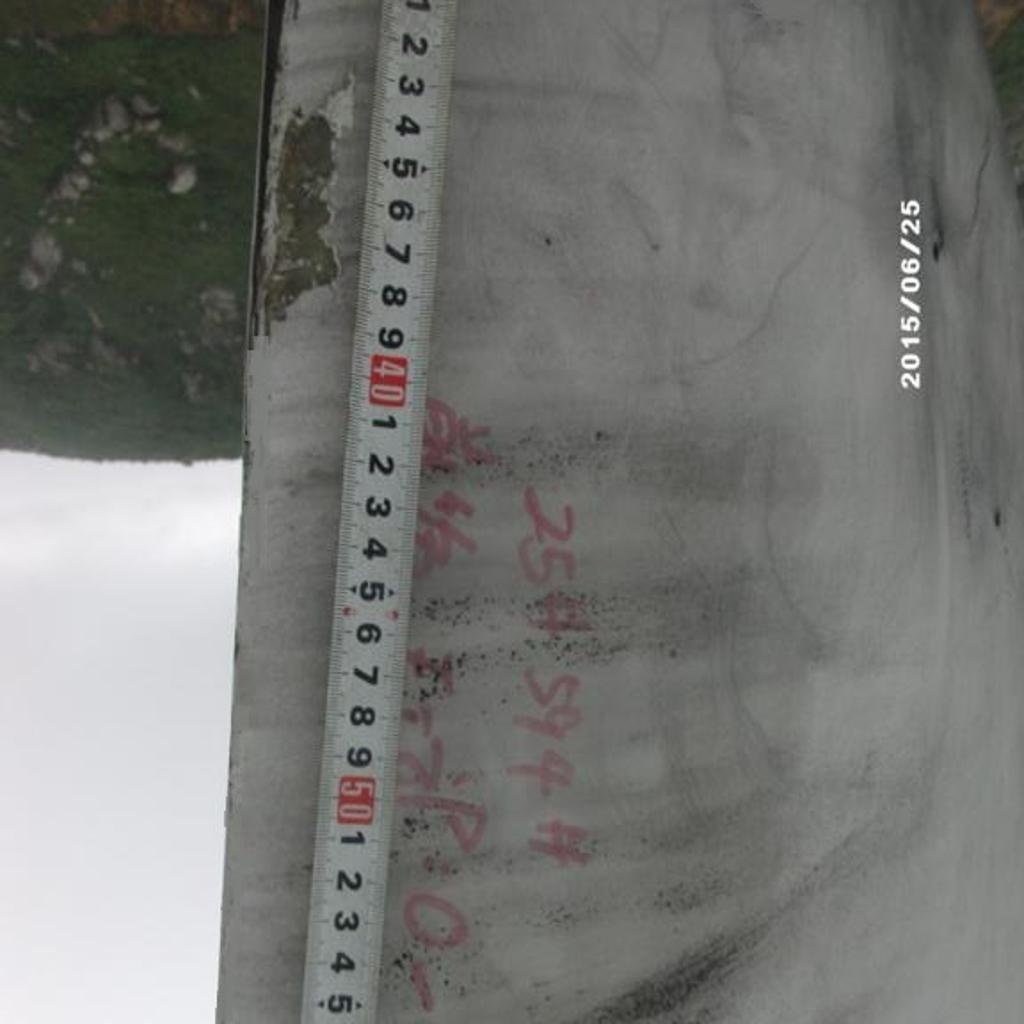surface_injure: (242, 105, 345, 341)
